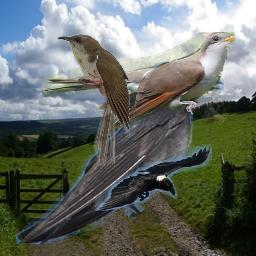Crow: (95, 144, 212, 211)
Cuckoo: (43, 32, 235, 130), (57, 33, 130, 166)
Swallow: (15, 61, 224, 244)
